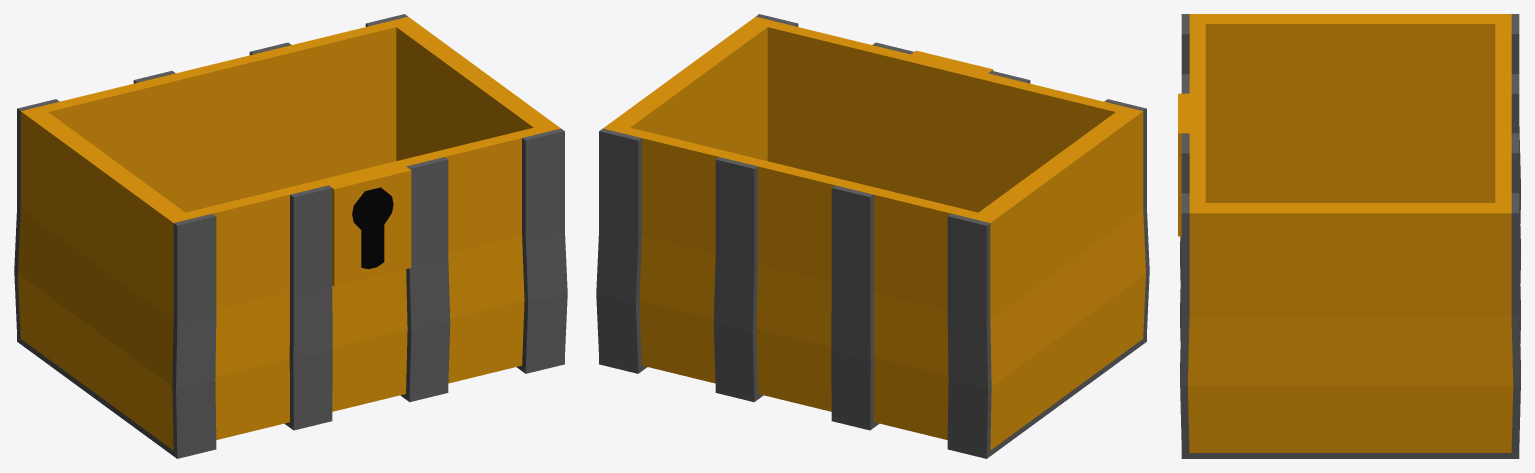
Rendered from Chest.fbx.
The picture shows the model from 3 angles, left to right: view 1: azimuth 30°, elevation 25°; view 2: azimuth 150°, elevation 25°; view 3: azimuth 270°, elevation 25°; orthographic projection. The views are drawn at different scales.
Parts seen in each view (by area): view 1: Chest; view 2: Chest; view 3: Chest.
Part boxes in pixels (box(x1,y1,x2,y2)): Chest: box(14, 14, 567, 458); Chest: box(596, 14, 1149, 458); Chest: box(1178, 14, 1520, 458).
Bounding box in the file's own units: 82.88 × 47.15 × 59.64.
